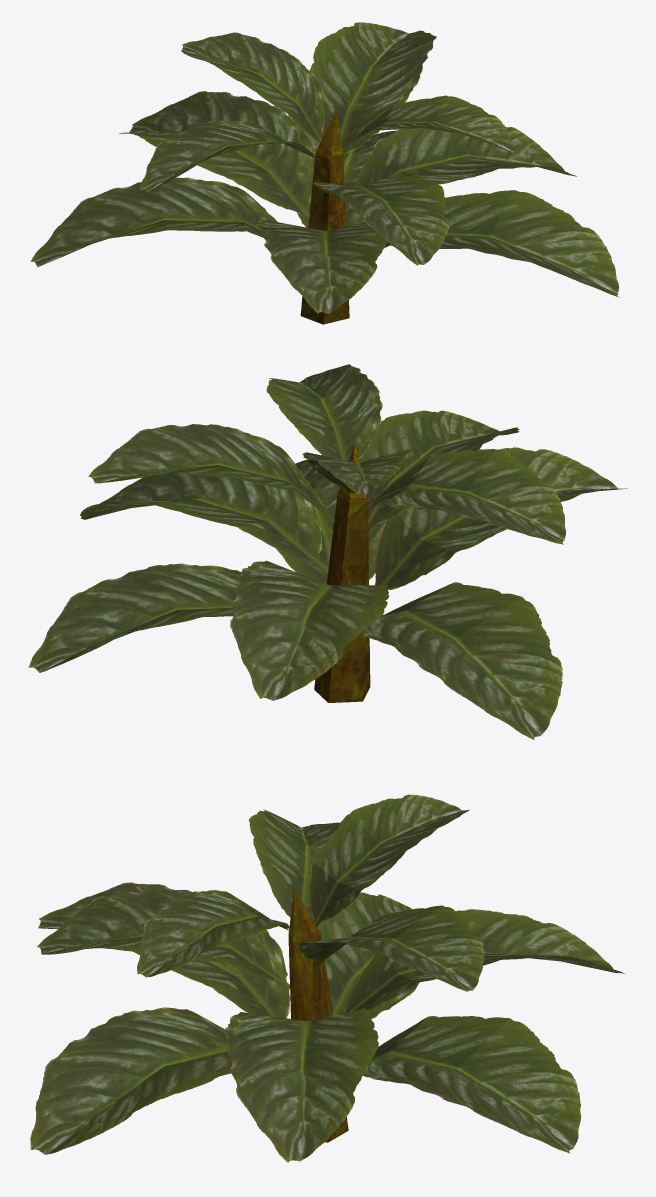
File: bigleafplant_01_small_mid.fbx
The picture shows the model from 3 angles, top to bottom: view 1: azimuth 30°, elevation 25°; view 2: azimuth 150°, elevation 25°; view 3: azimuth 270°, elevation 25°; orthographic projection. The views are drawn at different scales.
Visible parts, largest first — view 1: bigleafsa224; view 2: bigleafsa224; view 3: bigleafsa224.
Part boxes in pixels (x1,y1,x2,y2): bigleafsa224: (30,22,619,324); bigleafsa224: (28,364,627,739); bigleafsa224: (30,794,624,1162).
Size of the model in its own units: 177 by 85.34 by 166.
